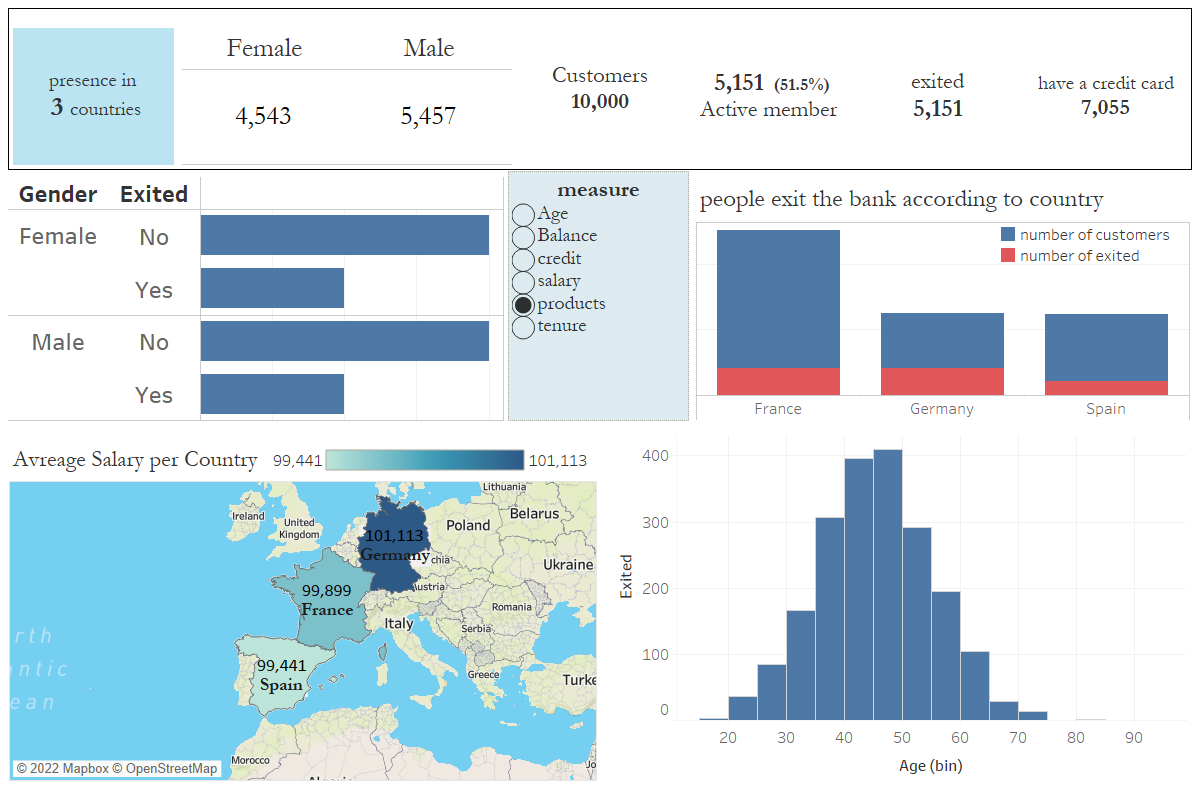

The dashboard page shown, as its layout file describes it:
{"tool":"tableau","page":{"name":"Dashboard 1","canvas":[1200,800],"ordinal":0},"visuals":[{"type":"worksheet","title":"presence in countries","mark":"Automatic","box":[9,9,168.7,160]},{"type":"worksheet","title":"gender","mark":"Automatic","cols":["Gender"],"box":[177.7,9,338.4,160]},{"type":"worksheet","title":"# of customers","mark":"Automatic","box":[516.1,9,168.7,160]},{"type":"worksheet","title":"active members","mark":"Automatic","box":[684.8,9,168.7,160]},{"type":"worksheet","title":"exited","mark":"Automatic","box":[853.5,9,168.7,160]},{"type":"worksheet","title":"credit card","mark":"Automatic","box":[1022.2,9,168.7,160]},{"type":"parameter","param":"[Parameters].[Parameter 1]","box":[508,171,181,250]},{"type":"worksheet","title":"male femal","mark":"Automatic","rows":["Gender","Exited"],"cols":["Calculation_642325924075765761"],"box":[8,177,496,244]},{"type":"worksheet","title":"people left the bank per country","mark":"Bar","rows":["Bank_Customers_Churn.csv_3FDAD4B55D964F07A00742CEC5C4B928","Exited"],"cols":["Geography"],"box":[696,178,494,243]},{"type":"legend","title":"people left the bank per country","param":"[federated.15xgsl30wvr2wx1fuix8306cwrm7].[:Measure Names]","box":[998,224,190,56]},{"type":"worksheet","title":"age vs exited","mark":"Automatic","rows":["Exited"],"cols":["Age (bin)"],"box":[608,435,578,348]},{"type":"worksheet","title":"Avreage Salary per Country","mark":"Automatic","box":[9,440,588,341]},{"type":"legend","title":"Avreage Salary per Country","param":"[federated.15xgsl30wvr2wx1fuix8306cwrm7].[avg:EstimatedSalary:qk]","box":[269,446,323,30]}]}

Visuals, with their boxes in screenshot pixels (x1, y1, x2, y2), scaled from the page's 1200x800 canvas onto the 1200x800 screenshot:
"presence in countries" worksheet: Rect(9, 9, 178, 169)
"gender" worksheet: Rect(178, 9, 516, 169)
"# of customers" worksheet: Rect(516, 9, 685, 169)
"active members" worksheet: Rect(685, 9, 854, 169)
"exited" worksheet: Rect(854, 9, 1022, 169)
"credit card" worksheet: Rect(1022, 9, 1191, 169)
parameter: Rect(508, 171, 689, 421)
"male femal" worksheet: Rect(8, 177, 504, 421)
"people left the bank per country" worksheet (Bar marks): Rect(696, 178, 1190, 421)
"people left the bank per country" legend: Rect(998, 224, 1188, 280)
"age vs exited" worksheet: Rect(608, 435, 1186, 783)
"Avreage Salary per Country" worksheet: Rect(9, 440, 597, 781)
"Avreage Salary per Country" legend: Rect(269, 446, 592, 476)
